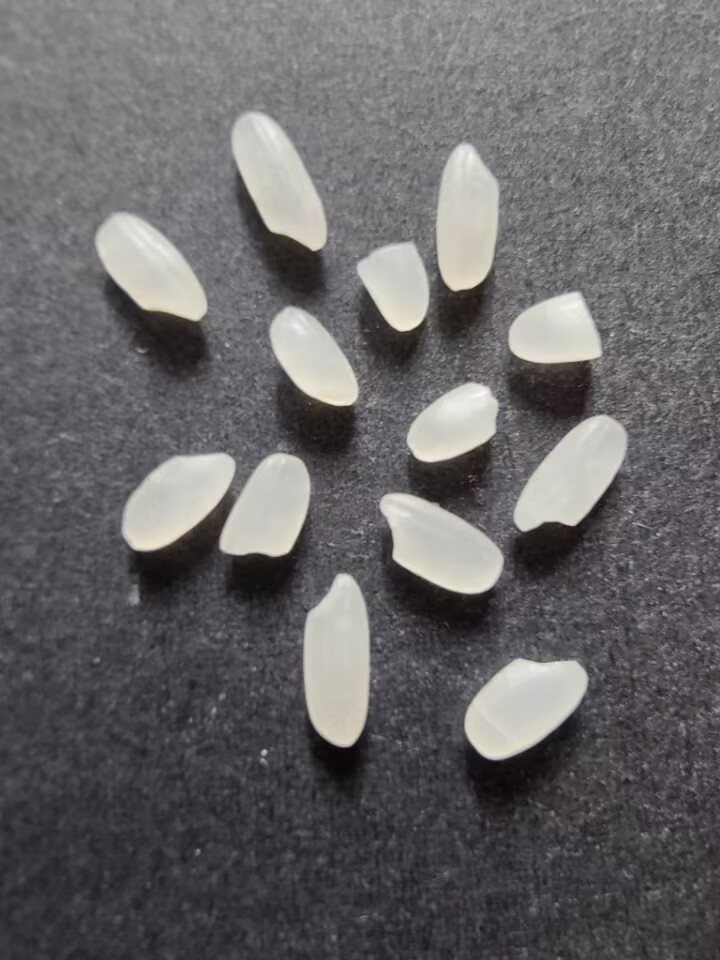broken: (217, 450, 316, 563), (502, 286, 608, 368), (402, 382, 499, 464), (354, 240, 432, 335)
rice: (509, 410, 637, 532), (226, 111, 332, 252), (456, 652, 591, 762), (297, 571, 377, 754), (92, 208, 212, 324), (375, 492, 508, 596), (115, 445, 237, 553), (431, 135, 507, 292), (269, 306, 361, 408)
